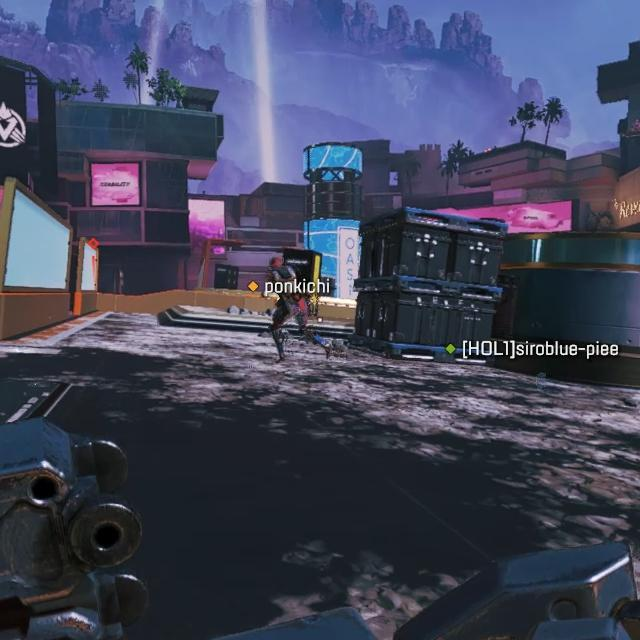avatar: (262, 253, 311, 364)
